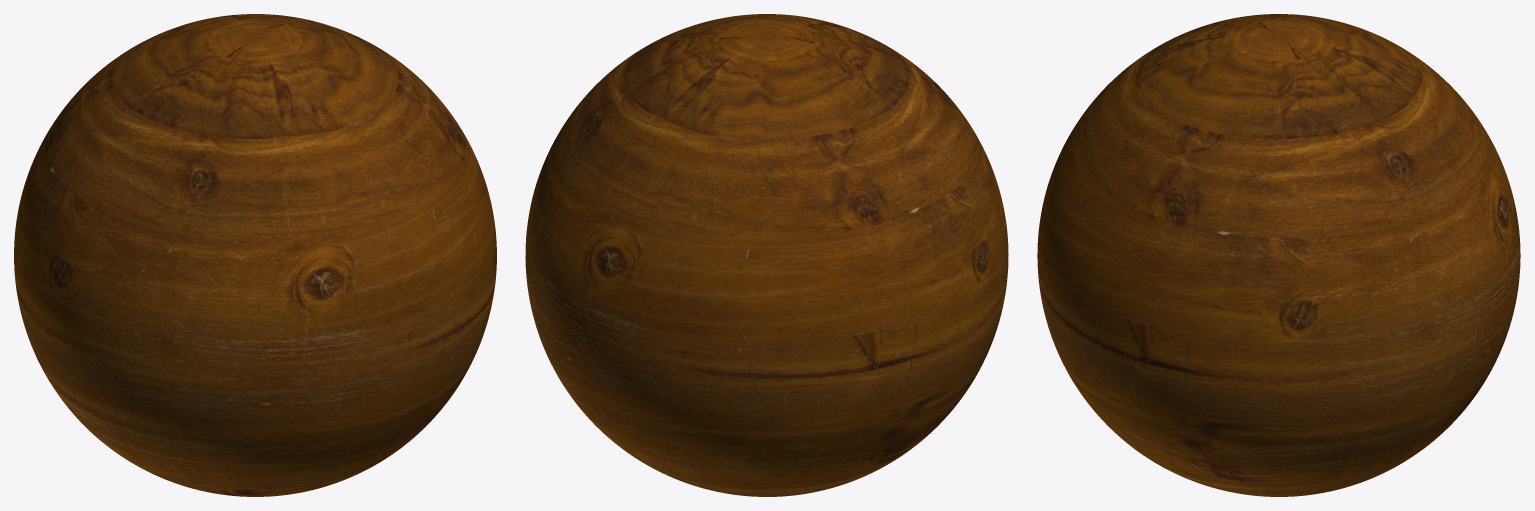
Rendered from coated_pine_2k.gltf.
3 views of the same model, side by side, from view 1: azimuth 30°, elevation 25°; view 2: azimuth 150°, elevation 25°; view 3: azimuth 270°, elevation 25° (orthographic).
Parts seen in each view (by area): view 1: sphere_gltf; view 2: sphere_gltf; view 3: sphere_gltf.
Boxes of the visible parts, x1,y1,x2,y2 form: sphere_gltf: [14, 14, 496, 496]; sphere_gltf: [525, 14, 1008, 496]; sphere_gltf: [1037, 14, 1520, 496].
Size of the model in its own units: 0.74 by 0.74 by 0.74.
1 material, 1 textured.
